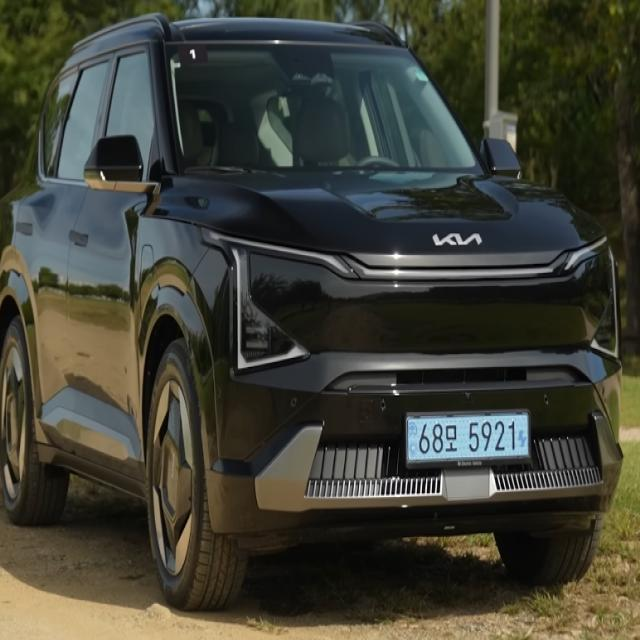car: (389, 405, 544, 481)
carev: (402, 414, 420, 464), (516, 413, 531, 462)
